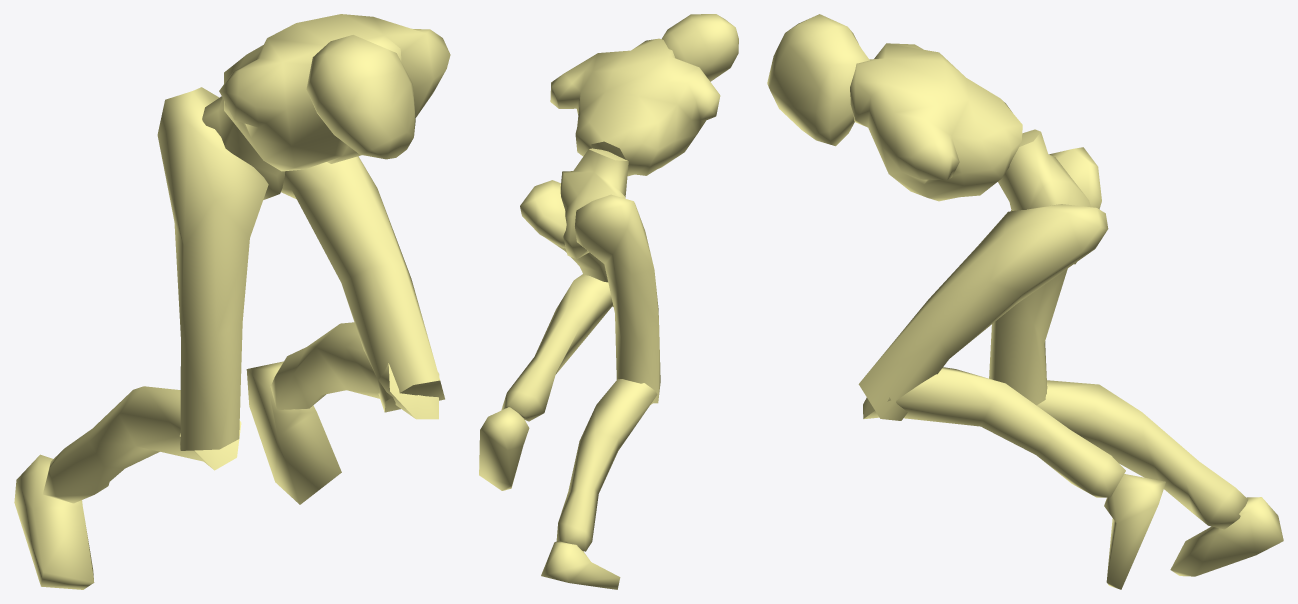
The model's file is filth10.obj.
The picture shows the model from 3 angles, left to right: view 1: azimuth 30°, elevation 25°; view 2: azimuth 150°, elevation 25°; view 3: azimuth 270°, elevation 25°; orthographic projection. The views are drawn at different scales.
Visible parts, largest first — view 1: Melee_Husk; view 2: Melee_Husk; view 3: Melee_Husk.
Boxes of the visible parts, x1,y1,x2,y2 form: Melee_Husk: [14, 14, 450, 589]; Melee_Husk: [479, 14, 738, 589]; Melee_Husk: [767, 14, 1283, 589].
Bounding box in the file's own units: 22.14 × 57.82 × 47.07.
